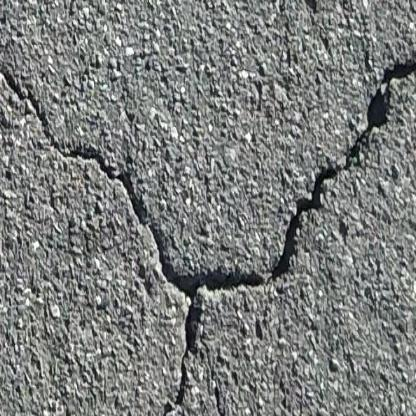Cracks: (48, 55, 416, 416), (0, 48, 50, 131)
